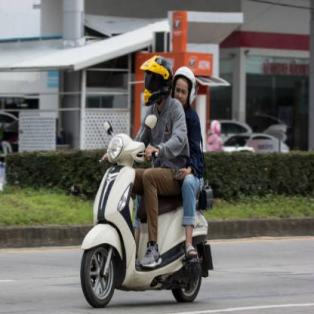Motocicleta: (79, 117, 212, 310)
